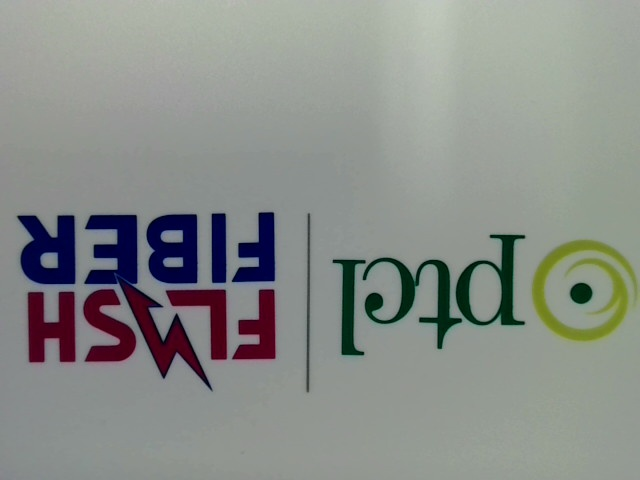BF_PTCL: (322, 222, 638, 364)
